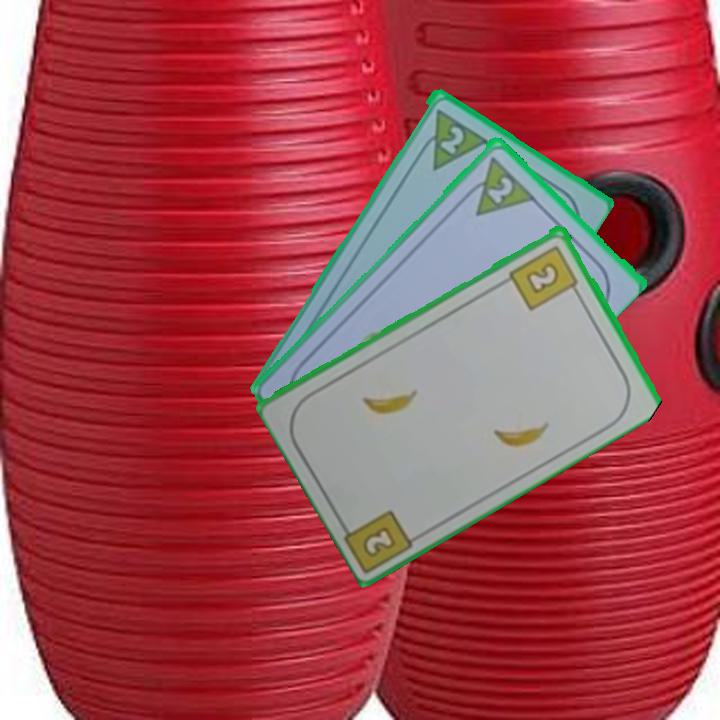2b: (506, 241, 583, 313), (358, 522, 399, 560)
2p: (412, 104, 489, 173), (483, 172, 516, 206)
